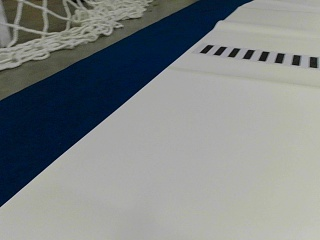crosswalk: (198, 44, 318, 68)
